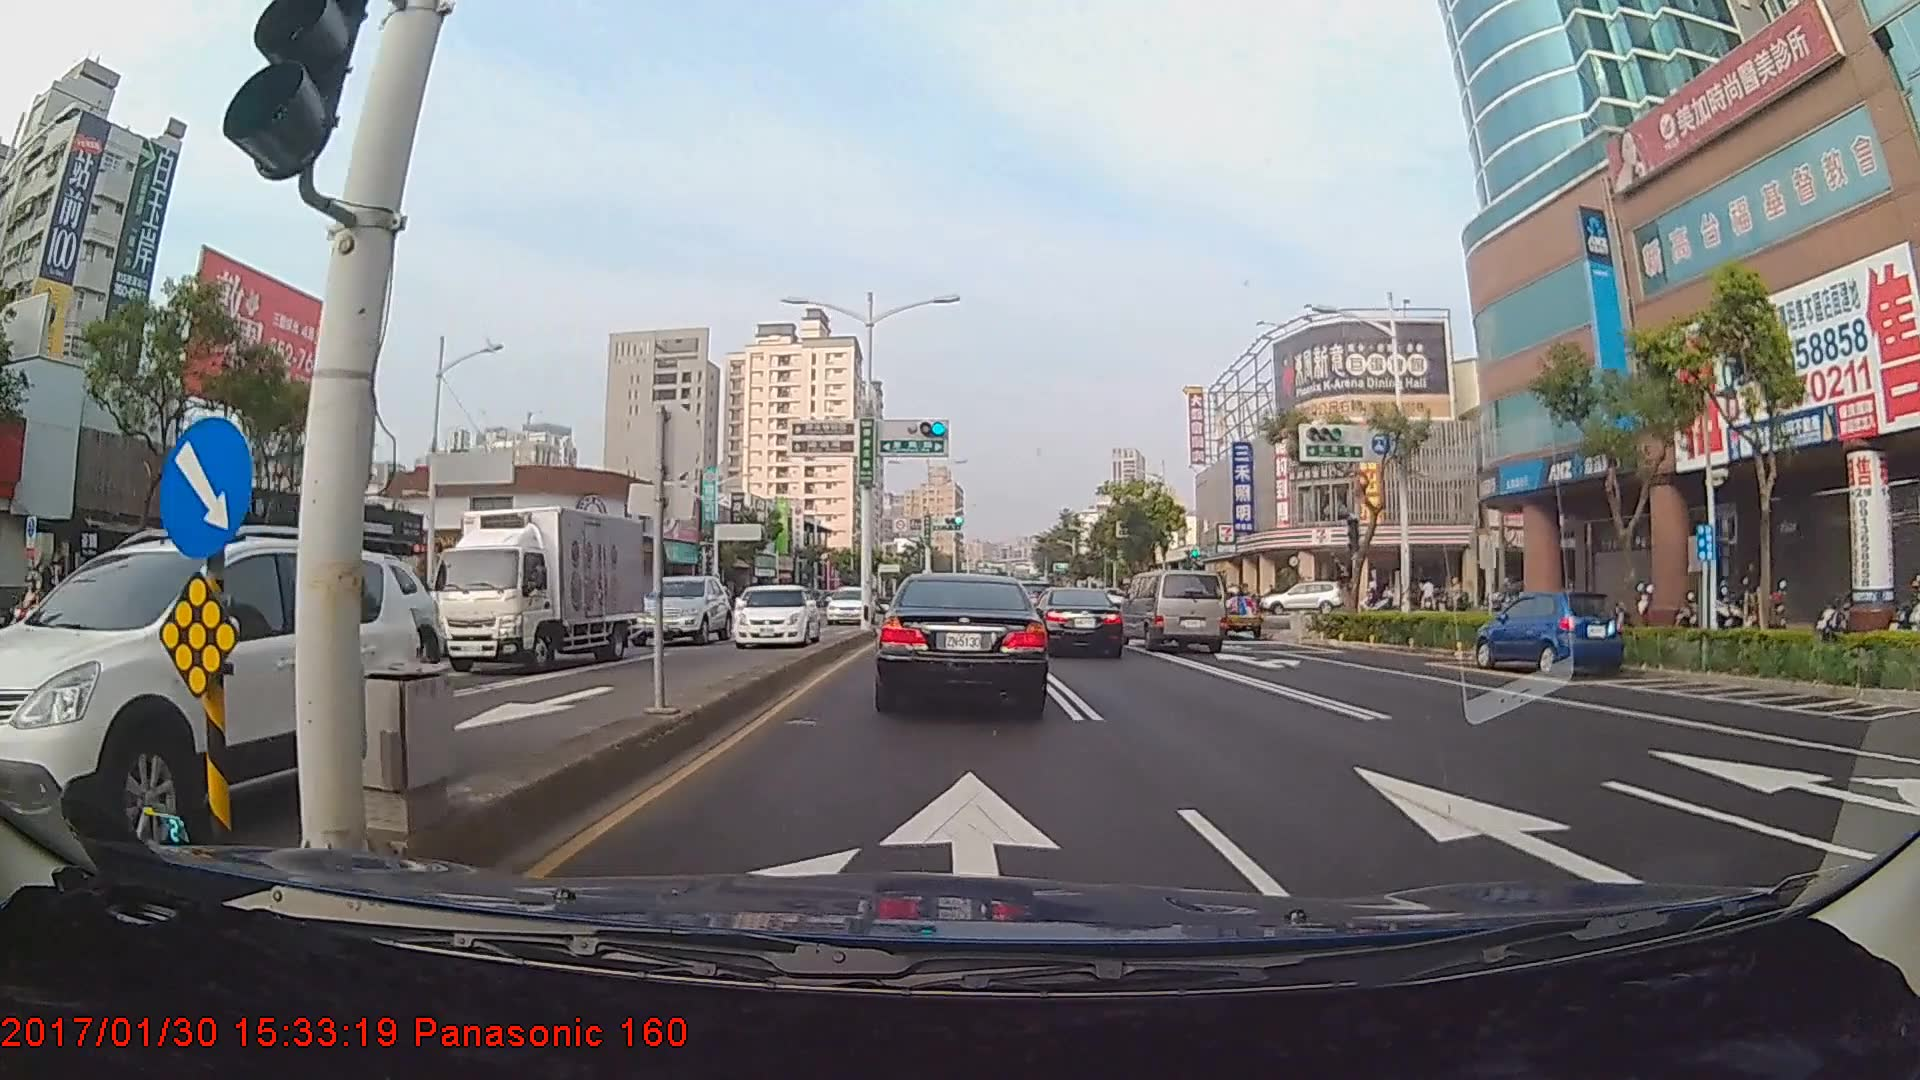vehicle: (8, 530, 425, 858), (425, 498, 645, 673), (878, 568, 1048, 713), (1474, 589, 1623, 676), (1120, 568, 1226, 654), (620, 567, 727, 642), (723, 578, 818, 647), (1038, 585, 1125, 657), (1263, 582, 1342, 616), (822, 580, 868, 622)
